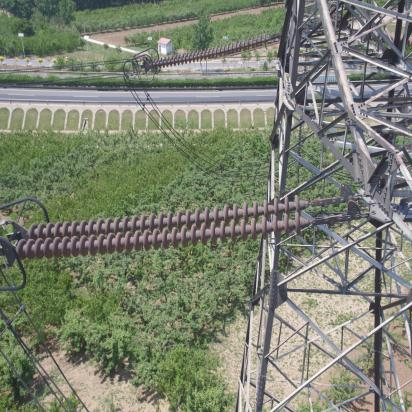insulator: (11, 191, 330, 263), (149, 31, 276, 71)
